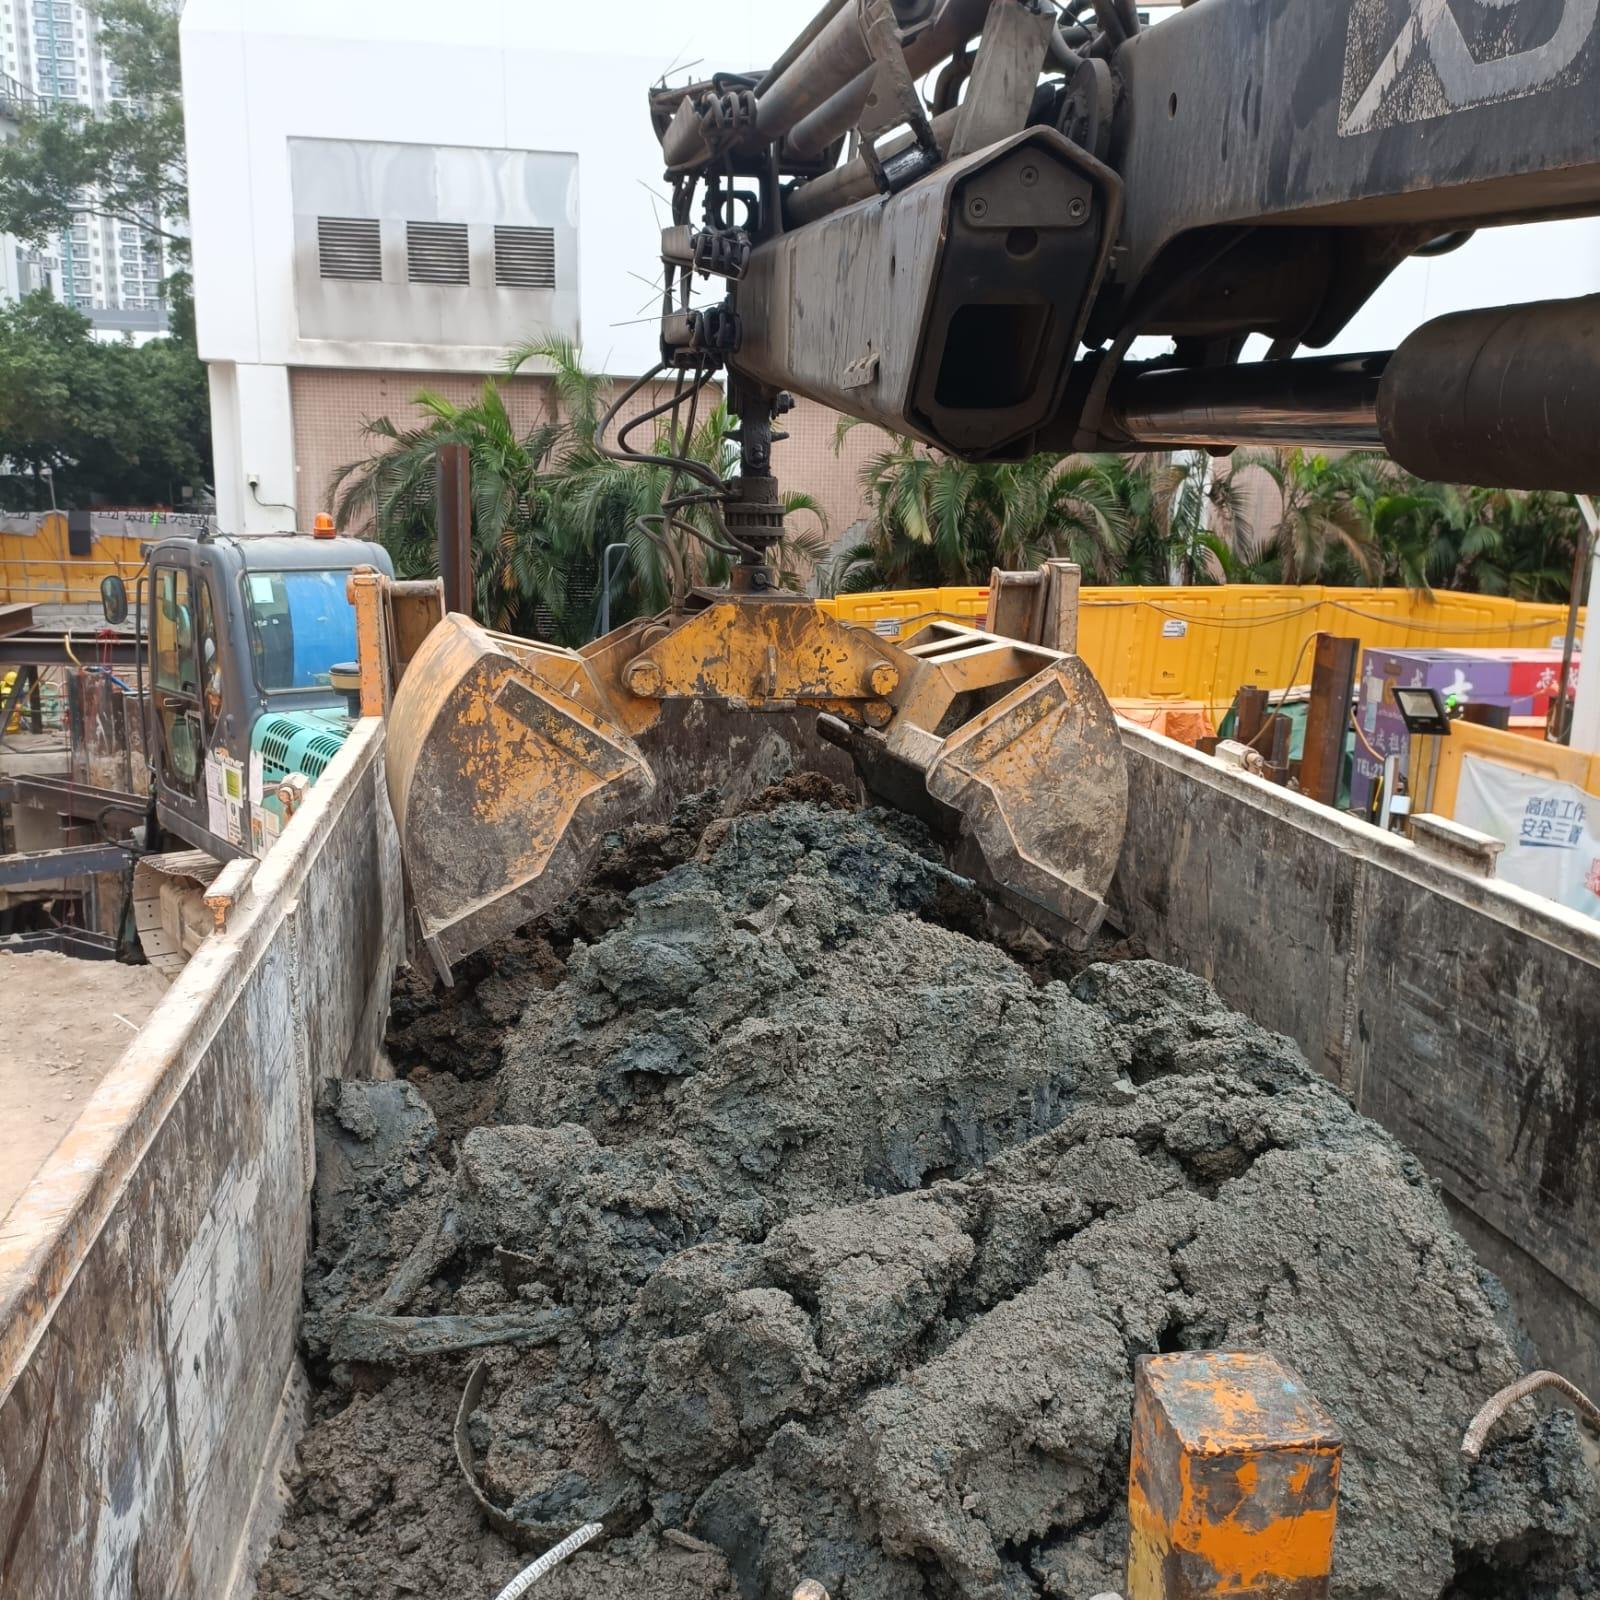stone: (278, 790, 1595, 1597)
